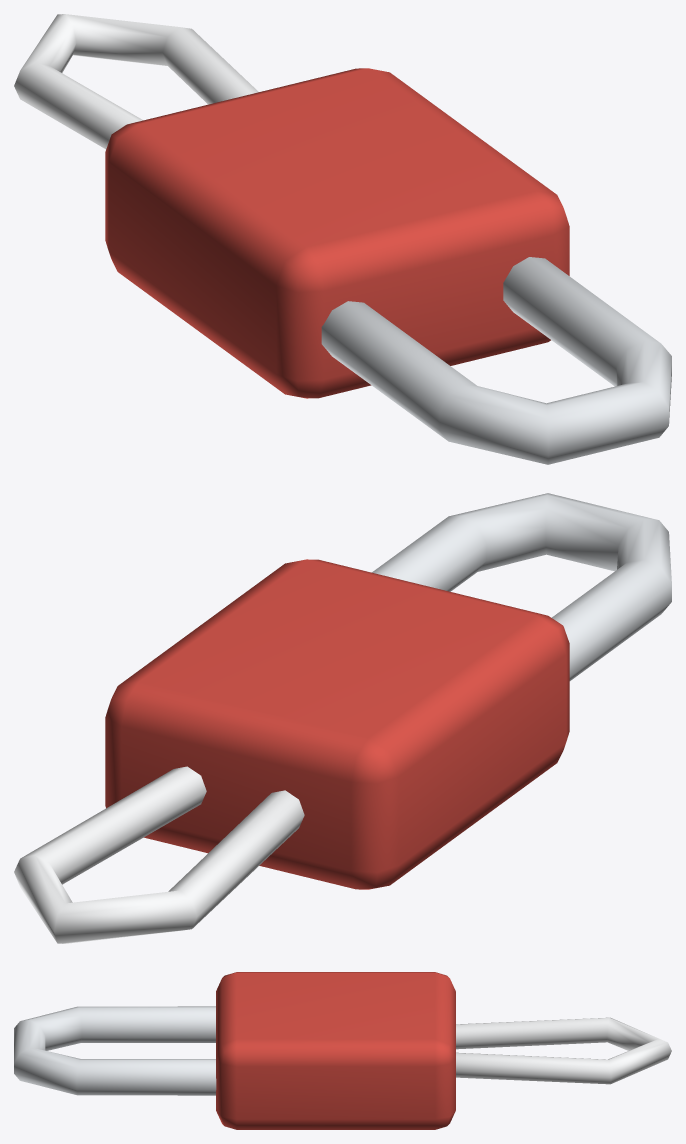
The model's file is loto-padlock.glb.
3 renders of one model, top to bottom at view 1: azimuth 30°, elevation 25°; view 2: azimuth 150°, elevation 25°; view 3: azimuth 270°, elevation 25°, orthographic. The views are drawn at different scales.
Parts seen in each view (by area): view 1: LotoPadlockMesh; view 2: LotoPadlockMesh; view 3: LotoPadlockMesh.
Part boxes in pixels (left/top/right/bottom): LotoPadlockMesh: left=14, top=14, right=671, bottom=464; LotoPadlockMesh: left=14, top=493, right=671, bottom=943; LotoPadlockMesh: left=14, top=972, right=671, bottom=1129.
Bounding box in the file's own units: 0.048 × 0.024 × 0.159.
